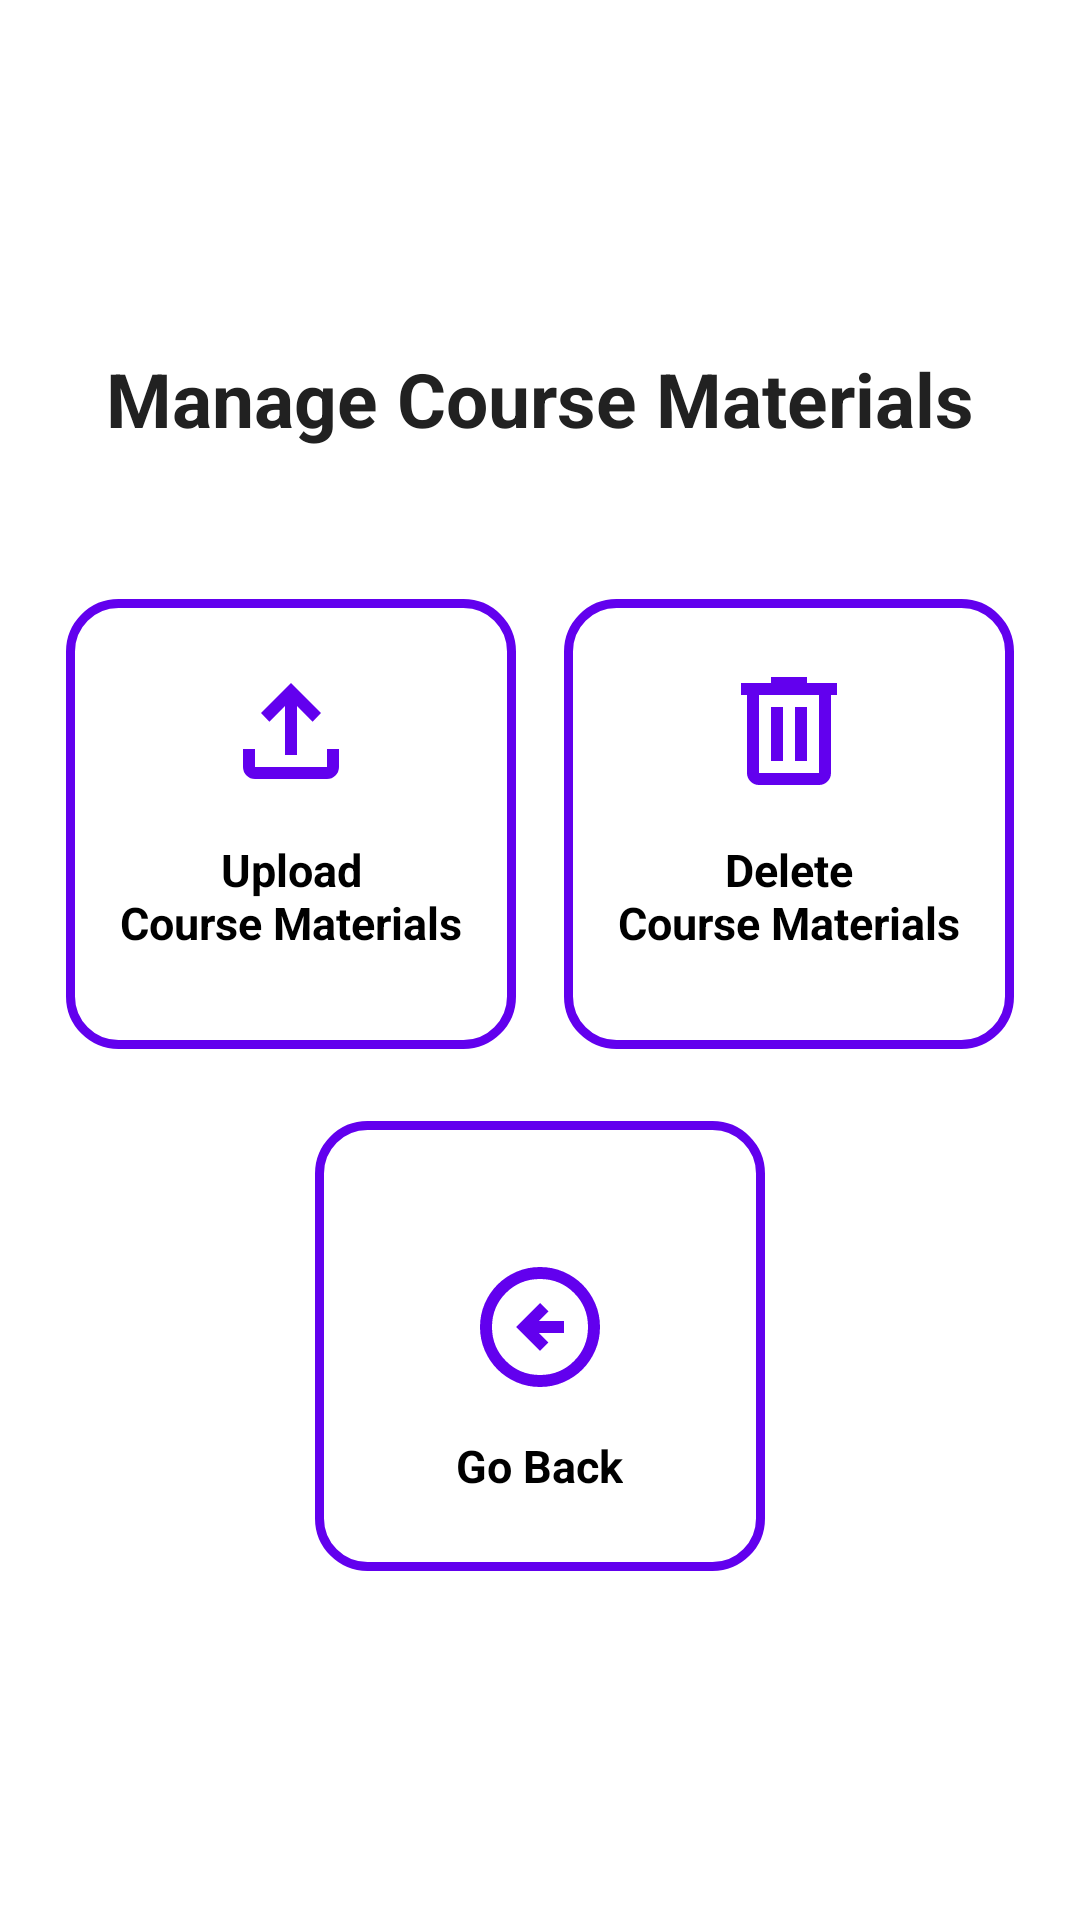

Where icons sit on this 1080 × 1920 app screen, as (x1, y1, x2, y2):
arrow circle left: (480, 1267, 600, 1387)
